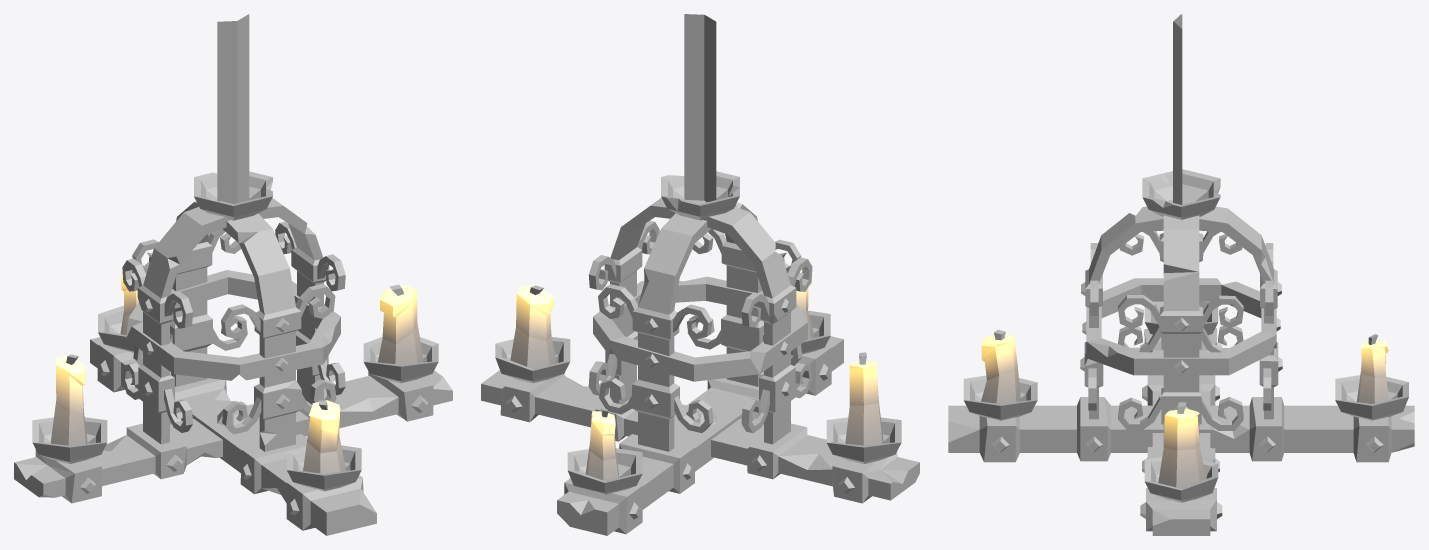
File: SM_Prop_Chandelier_01.fbx
3 renders of one model, left to right at view 1: azimuth 30°, elevation 25°; view 2: azimuth 150°, elevation 25°; view 3: azimuth 270°, elevation 25°, orthographic.
Visible parts, largest first — view 1: SM_Prop_Chandelier_01; view 2: SM_Prop_Chandelier_01; view 3: SM_Prop_Chandelier_01.
Boxes of the visible parts, bbox=[...] form: SM_Prop_Chandelier_01: bbox=[14, 14, 452, 535]; SM_Prop_Chandelier_01: bbox=[481, 14, 919, 535]; SM_Prop_Chandelier_01: bbox=[948, 14, 1414, 535].
Bounding box in the file's own units: 141 × 143 × 141.
